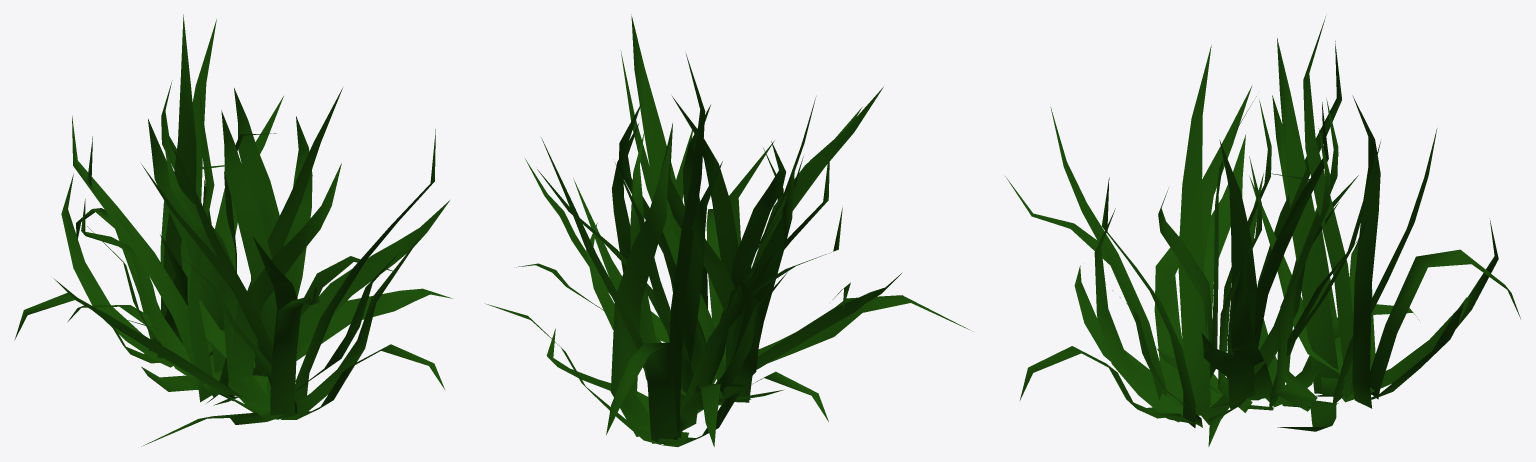
The model's file is bush_2.glb.
The picture shows the model from 3 angles, left to right: view 1: azimuth 30°, elevation 25°; view 2: azimuth 150°, elevation 25°; view 3: azimuth 270°, elevation 25°; orthographic projection. The views are drawn at different scales.
Parts seen in each view (by area): view 1: grass1; view 2: grass1; view 3: grass1.
Part boxes in pixels (x1,y1,x2,y2): grass1: (14,14,452,446); grass1: (485,14,972,447); grass1: (1005,16,1520,446).
Size of the model in its own units: 2.25 by 1.98 by 2.43.
